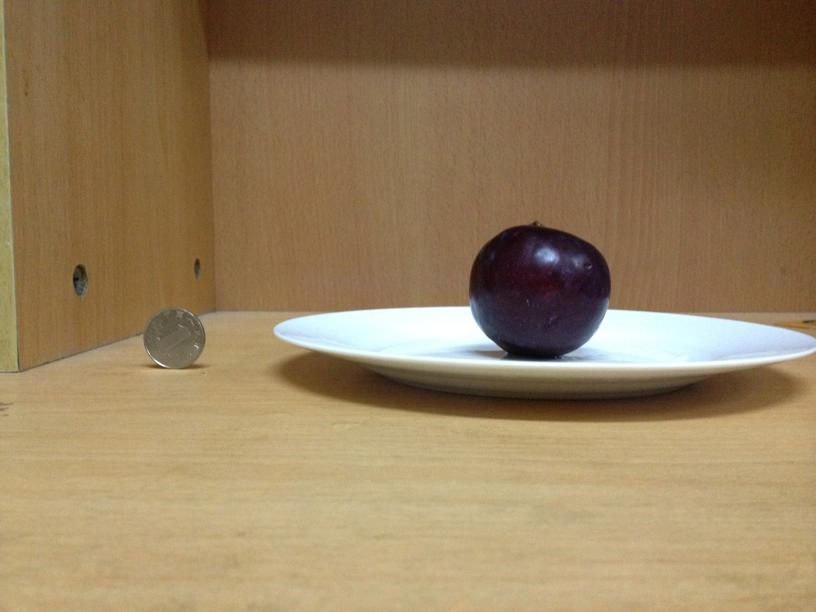coin: (138, 303, 204, 368)
plum: (469, 225, 610, 355)
